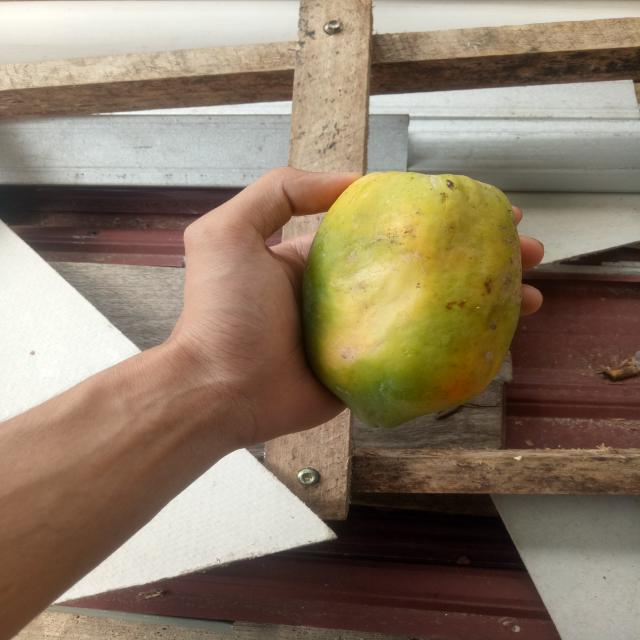Pepaya rippen: (301, 154, 509, 433)
